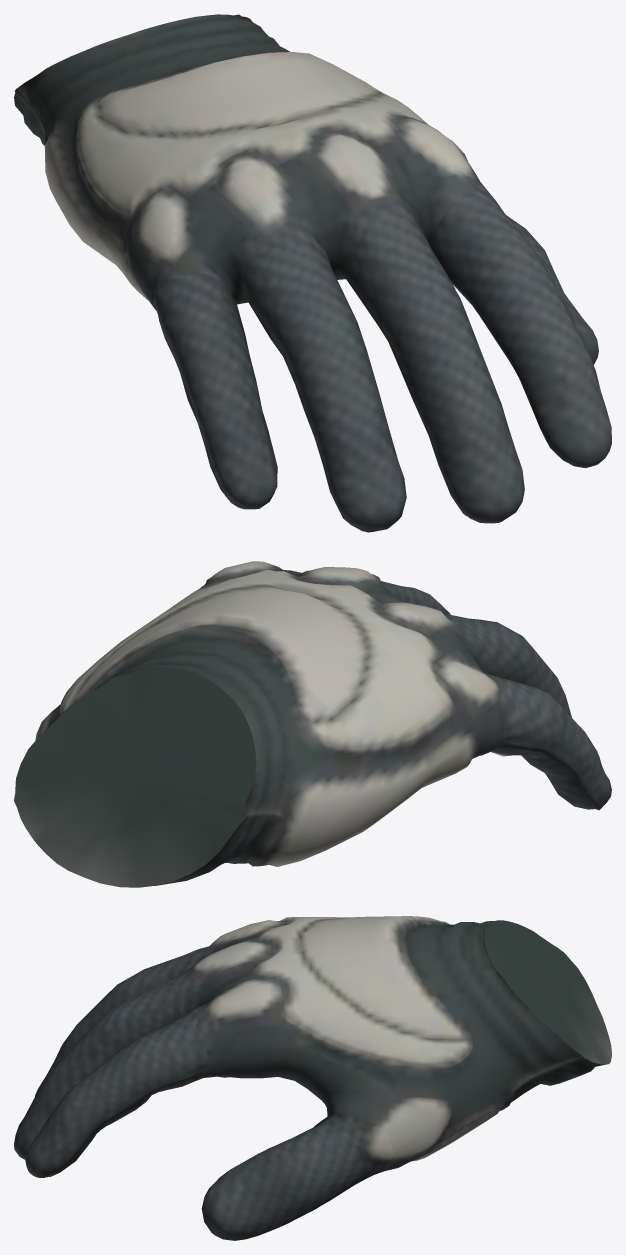
File: hand.glb
The picture shows the model from 3 angles, top to bottom: view 1: azimuth 30°, elevation 25°; view 2: azimuth 150°, elevation 25°; view 3: azimuth 270°, elevation 25°; orthographic projection. The views are drawn at different scales.
Visible parts, largest first — view 1: test_hand; view 2: test_hand; view 3: test_hand.
Boxes of the visible parts, x1=… form: test_hand: x1=14, y1=14, x2=611, y2=532; test_hand: x1=14, y1=561, x2=611, y2=887; test_hand: x1=14, y1=916, x2=611, y2=1240.
Bounding box in the file's own units: 0.1309 × 0.0848 × 0.2019.
1 material, 1 textured.
